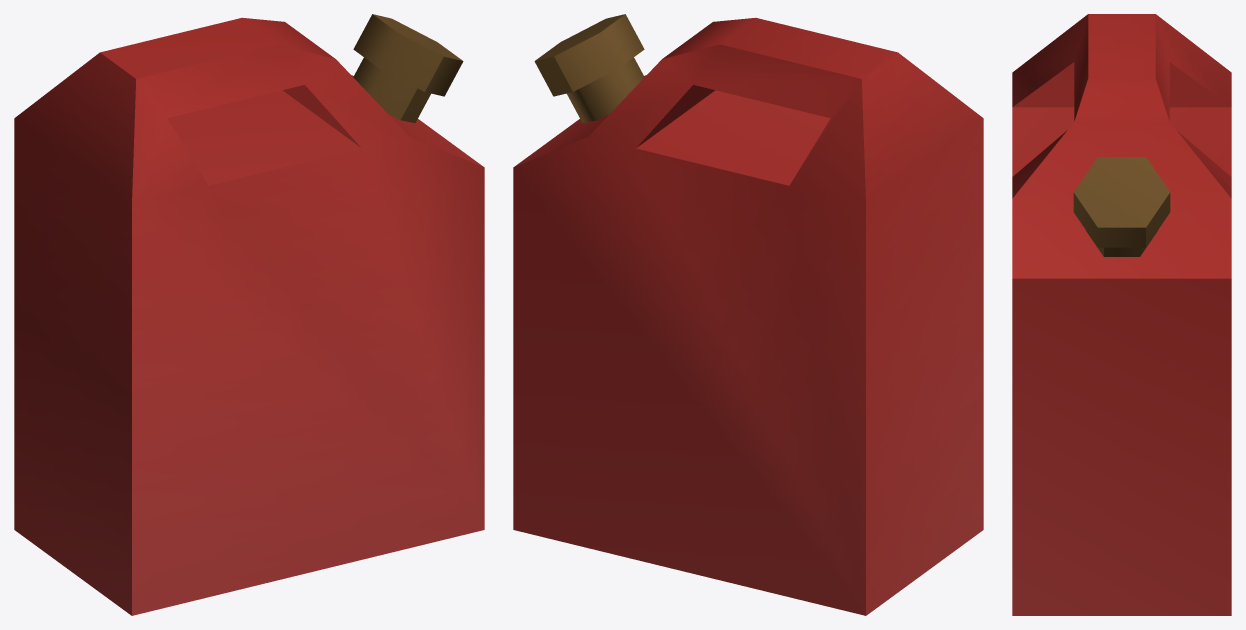
Rendered from Gasoline.fbx.
The picture shows the model from 3 angles, left to right: view 1: azimuth 30°, elevation 25°; view 2: azimuth 150°, elevation 25°; view 3: azimuth 270°, elevation 25°; orthographic projection. The views are drawn at different scales.
Visible parts, largest first — view 1: Gasoline; view 2: Gasoline; view 3: Gasoline.
Part boxes in pixels (x1,y1,x2,y2): Gasoline: [14, 14, 484, 615]; Gasoline: [513, 14, 983, 615]; Gasoline: [1012, 14, 1231, 615].
Size of the model in its own units: 68.38 by 85.87 by 36.92.
